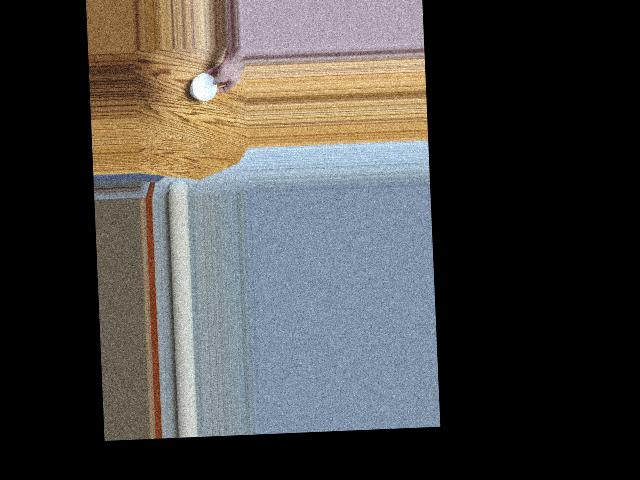cotage: (190, 72, 219, 106)
